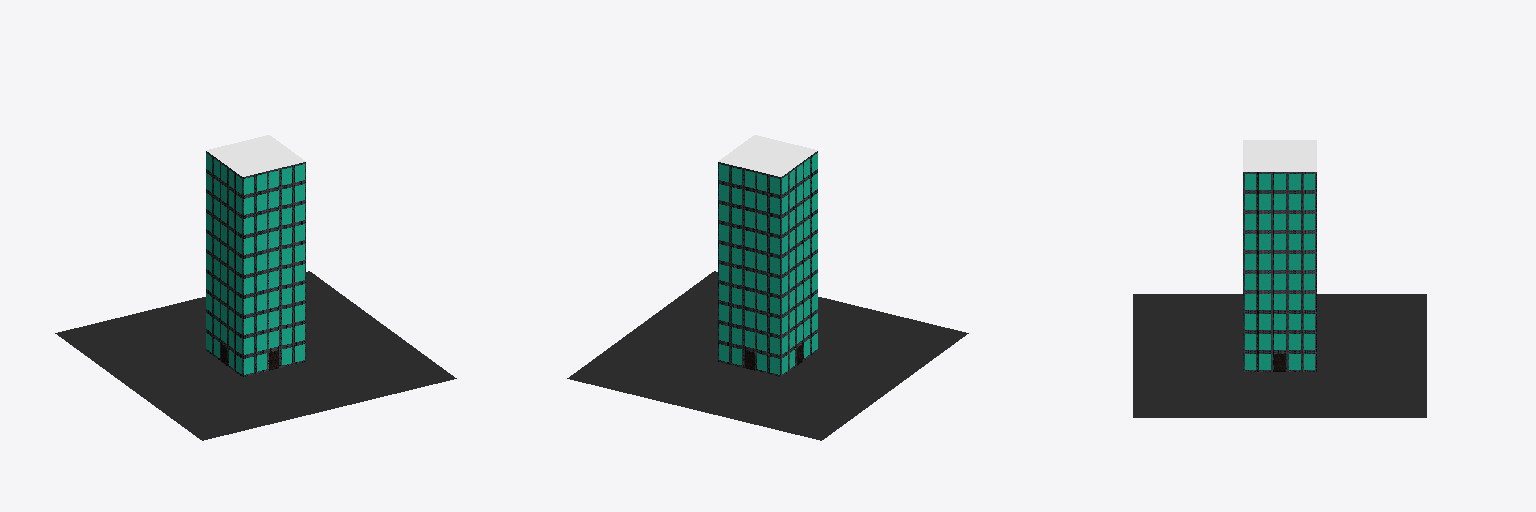
3 renders of one model, left to right at view 1: azimuth 30°, elevation 25°; view 2: azimuth 150°, elevation 25°; view 3: azimuth 270°, elevation 25°, orthographic.
Visible parts, largest first — view 1: object 1, object 5; view 2: object 1, object 5; view 3: object 1, object 5.
Part boxes in pixels (x1,y1,x2,y2): object 1: (55, 271, 456, 440); object 5: (206, 135, 305, 376); object 1: (567, 271, 968, 440); object 5: (718, 135, 817, 376); object 1: (1133, 294, 1426, 417); object 5: (1243, 140, 1316, 371).
Size of the model in its own units: 40 by 30 by 40.
Materials: 7 (4 with a texture image).